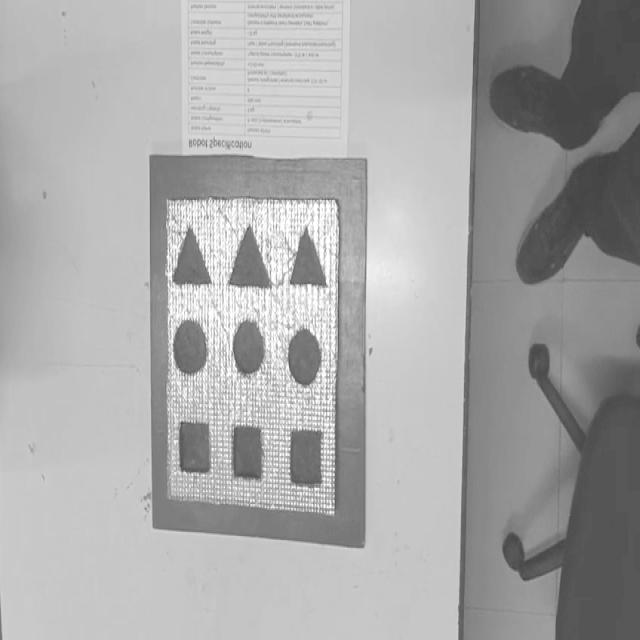mtcircle: (232, 320, 266, 373), (288, 329, 320, 385), (174, 321, 206, 372)
mtcube: (286, 431, 322, 484), (232, 423, 263, 479), (179, 423, 212, 472)
mttriangle: (229, 225, 272, 288), (173, 229, 212, 284), (290, 228, 326, 285)
wb: (166, 196, 339, 518)
